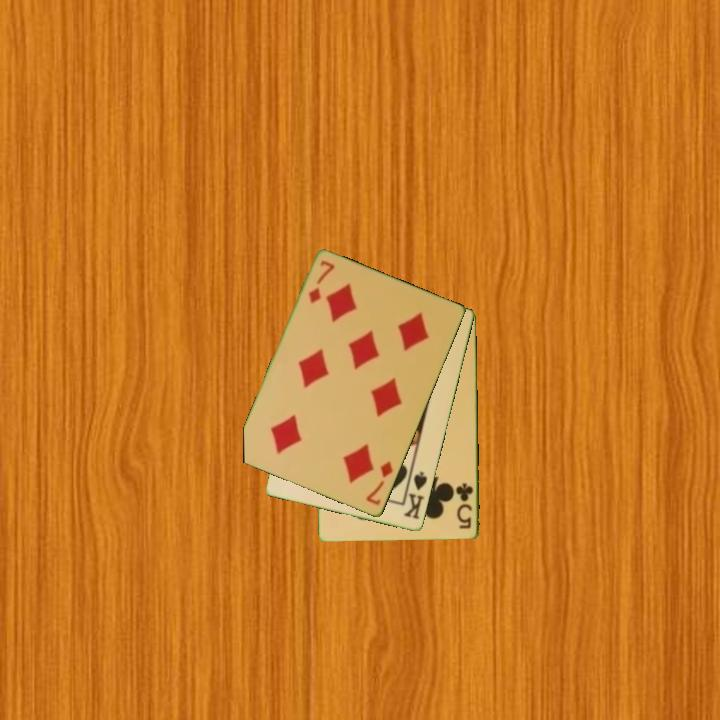5c: (453, 480, 476, 532)
7d: (363, 458, 396, 508), (305, 257, 338, 307)
Ks: (400, 467, 430, 522)
